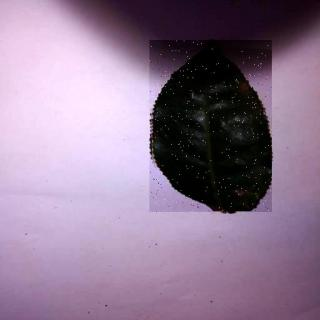Bird Eye Spot: (150, 42, 273, 214)
